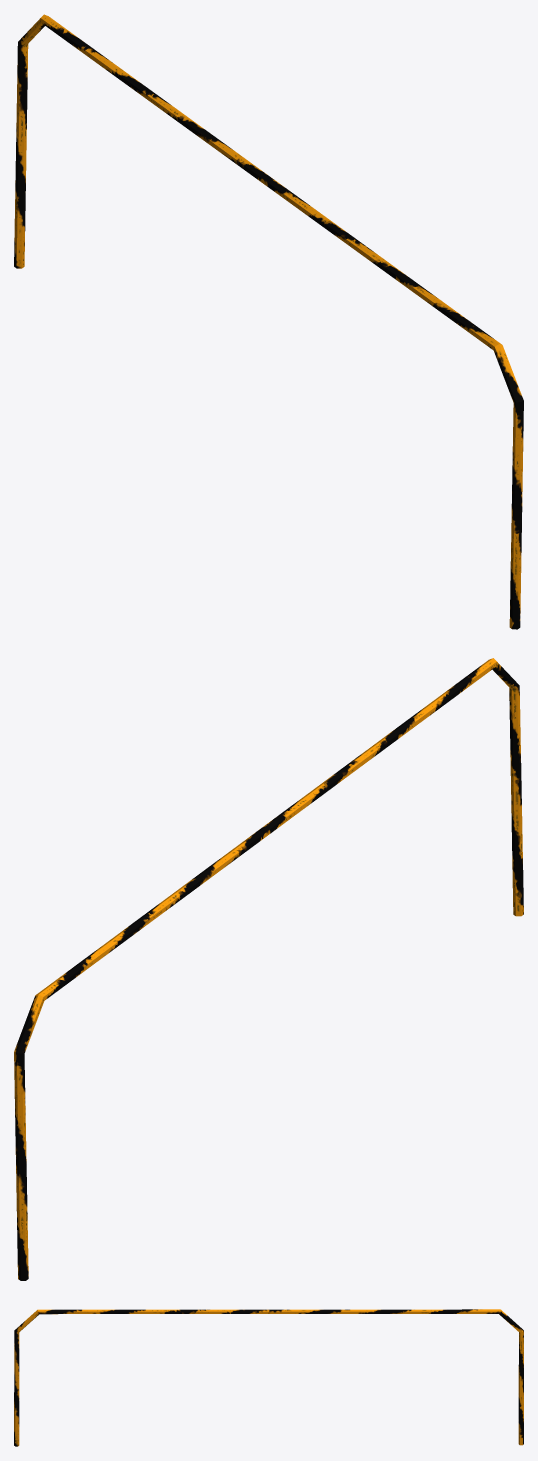
Rendered from Metal.fbx.
The picture shows the model from 3 angles, top to bottom: view 1: azimuth 30°, elevation 25°; view 2: azimuth 150°, elevation 25°; view 3: azimuth 270°, elevation 25°; orthographic projection. The views are drawn at different scales.
Parts seen in each view (by area): view 1: Vert.005; view 2: Vert.005; view 3: Vert.005.
Part boxes in pixels (left/top/right/bottom): Vert.005: left=14, top=14, right=523, bottom=629; Vert.005: left=14, top=658, right=523, bottom=1280; Vert.005: left=14, top=1309, right=523, bottom=1446.
Size of the model in its own units: 23.52 by 390 by 1317.
Materials: 1 (1 with a texture image).
